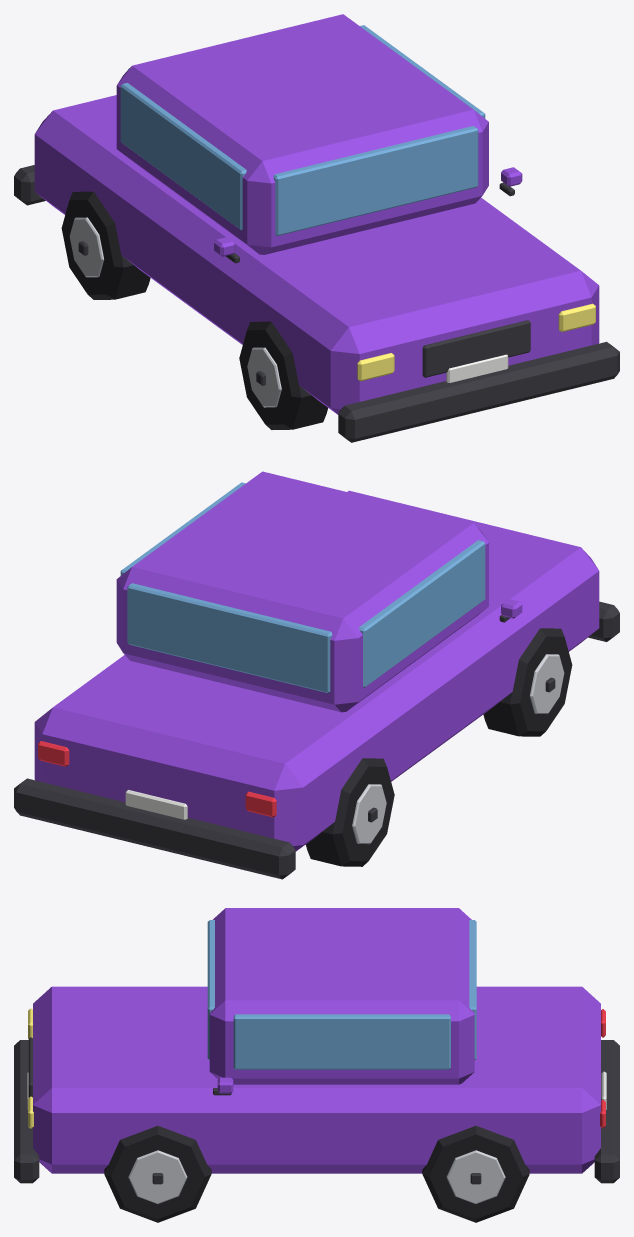
Rendered from PurpleCar.fbx.
3 renders of one model, top to bottom at view 1: azimuth 30°, elevation 25°; view 2: azimuth 150°, elevation 25°; view 3: azimuth 270°, elevation 25°, orthographic. The views are drawn at different scales.
Visible parts, largest first — view 1: PurpleCar, PurpleCar_WheelBR, PurpleCar_WheelFR; view 2: PurpleCar, PurpleCar_WheelBR, PurpleCar_WheelFR; view 3: PurpleCar, PurpleCar_WheelBL, PurpleCar_WheelFL.
Boxes of the visible parts, bbox=[...] form: PurpleCar: bbox=[14, 14, 619, 442]; PurpleCar_WheelBR: bbox=[61, 191, 150, 299]; PurpleCar_WheelFR: bbox=[239, 321, 327, 429]; PurpleCar: bbox=[14, 471, 619, 879]; PurpleCar_WheelBR: bbox=[305, 758, 394, 866]; PurpleCar_WheelFR: bbox=[483, 628, 572, 736]; PurpleCar: bbox=[14, 908, 619, 1183]; PurpleCar_WheelBL: bbox=[422, 1125, 529, 1222]; PurpleCar_WheelFL: bbox=[104, 1125, 211, 1222].
Size of the model in its own units: 4.95 by 3.67 by 9.6.
Materials: 1 (1 with a texture image).
